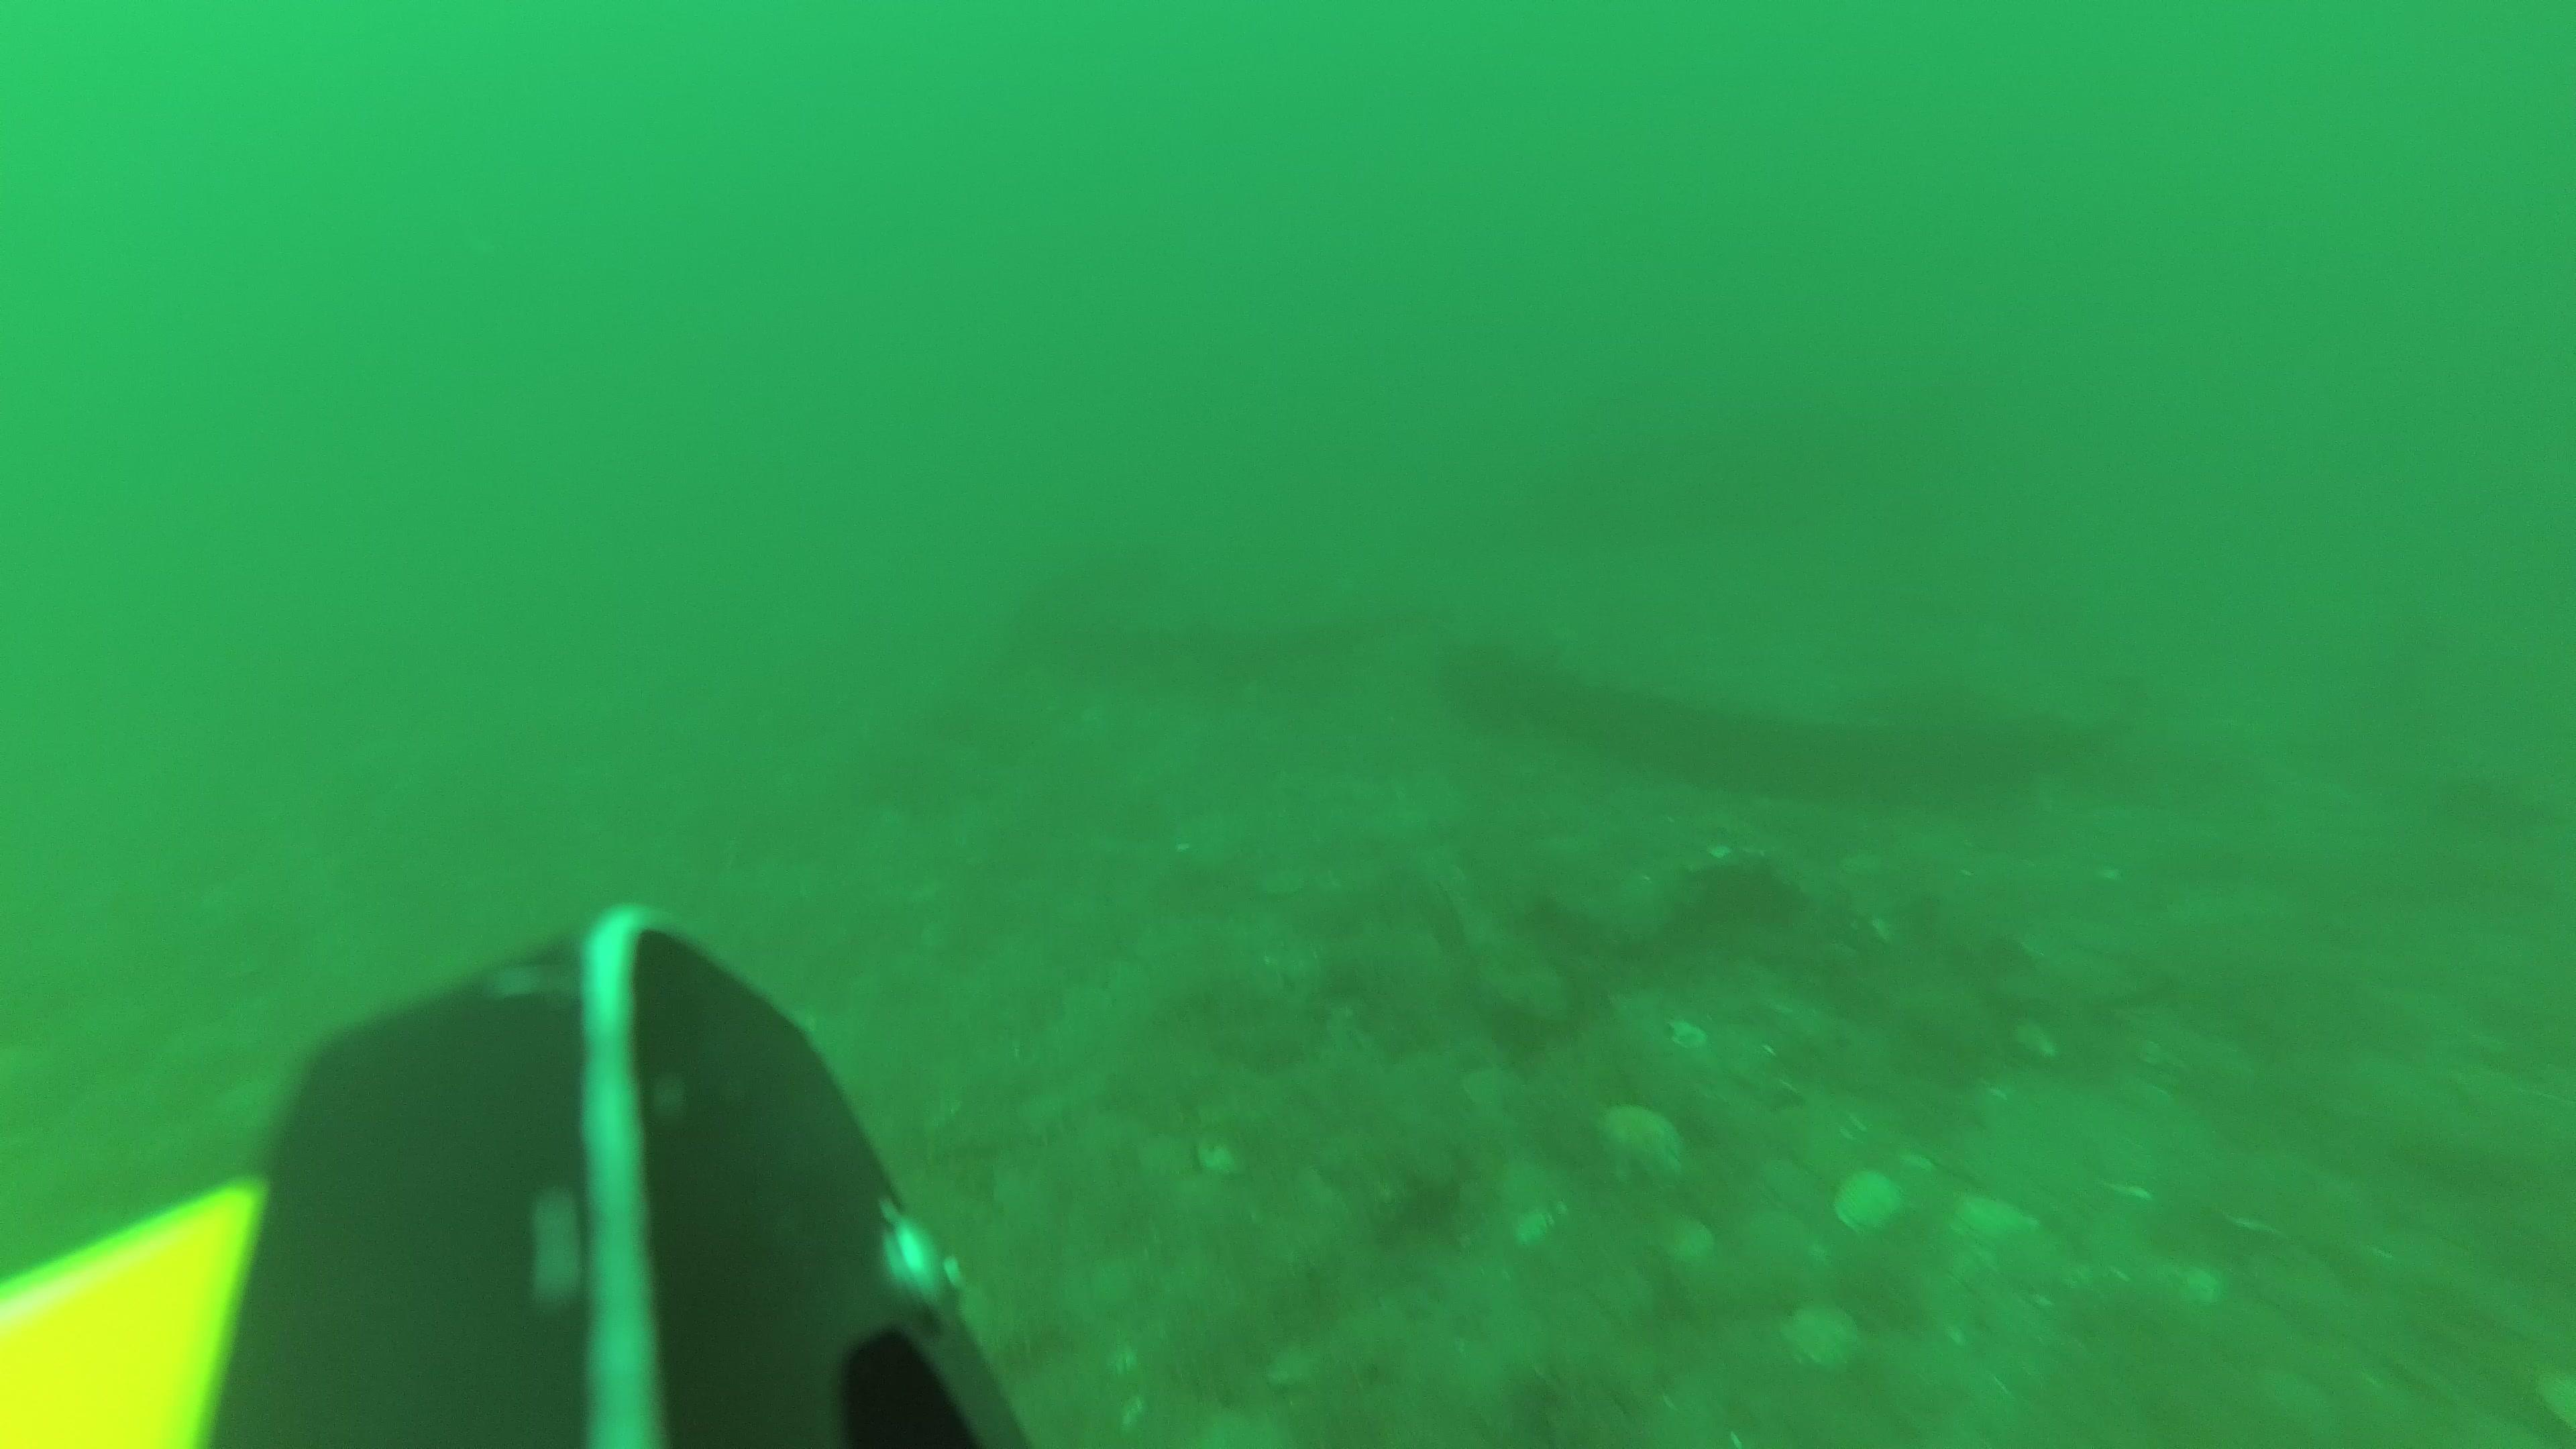scallop: (1990, 1065, 2155, 1207), (2019, 915, 2166, 1012), (1601, 1102, 1690, 1187), (1776, 1293, 1861, 1376), (1836, 1162, 1918, 1238), (1955, 1192, 2043, 1256)
